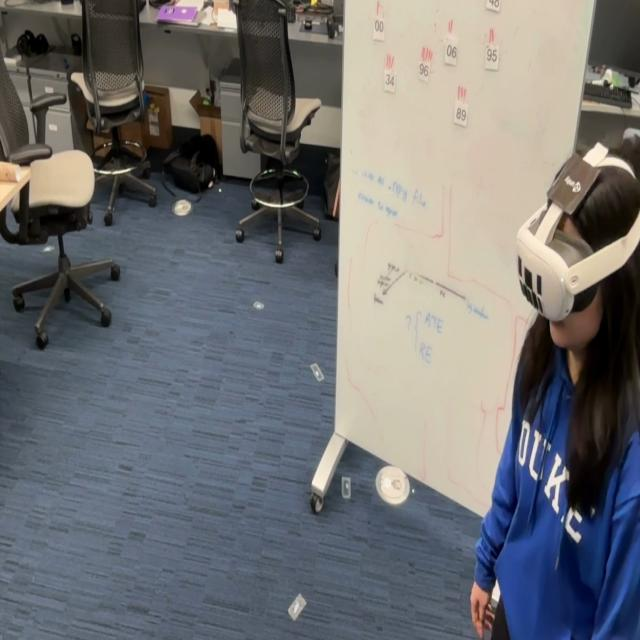Headset: (515, 142, 639, 323)
UnityLogo: (554, 146, 583, 220)
